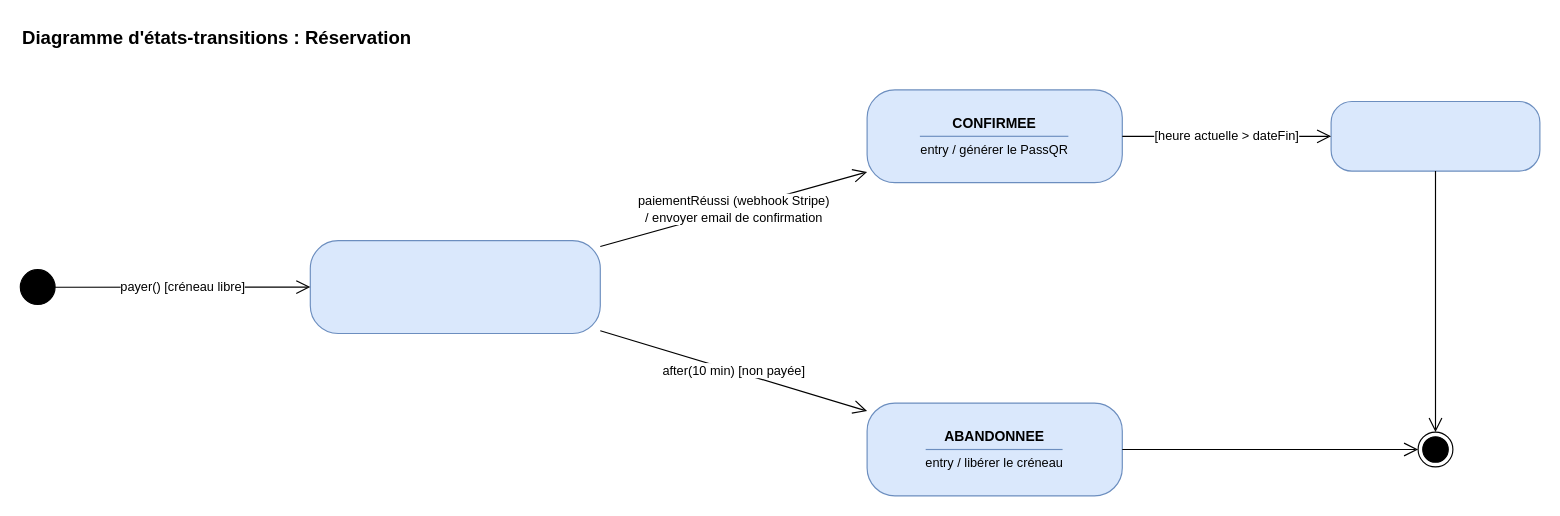
The diagram is 1560 pixels wide and 516 high, and some of its shapes have lost their labels. The centre of each missing label's shape, as x and y in pixels:
EN_ATTENTE_PAIEMENT entry / bloquer le créneau 10 min: the point at 454,287
TERMINEE: the point at 1435,135
